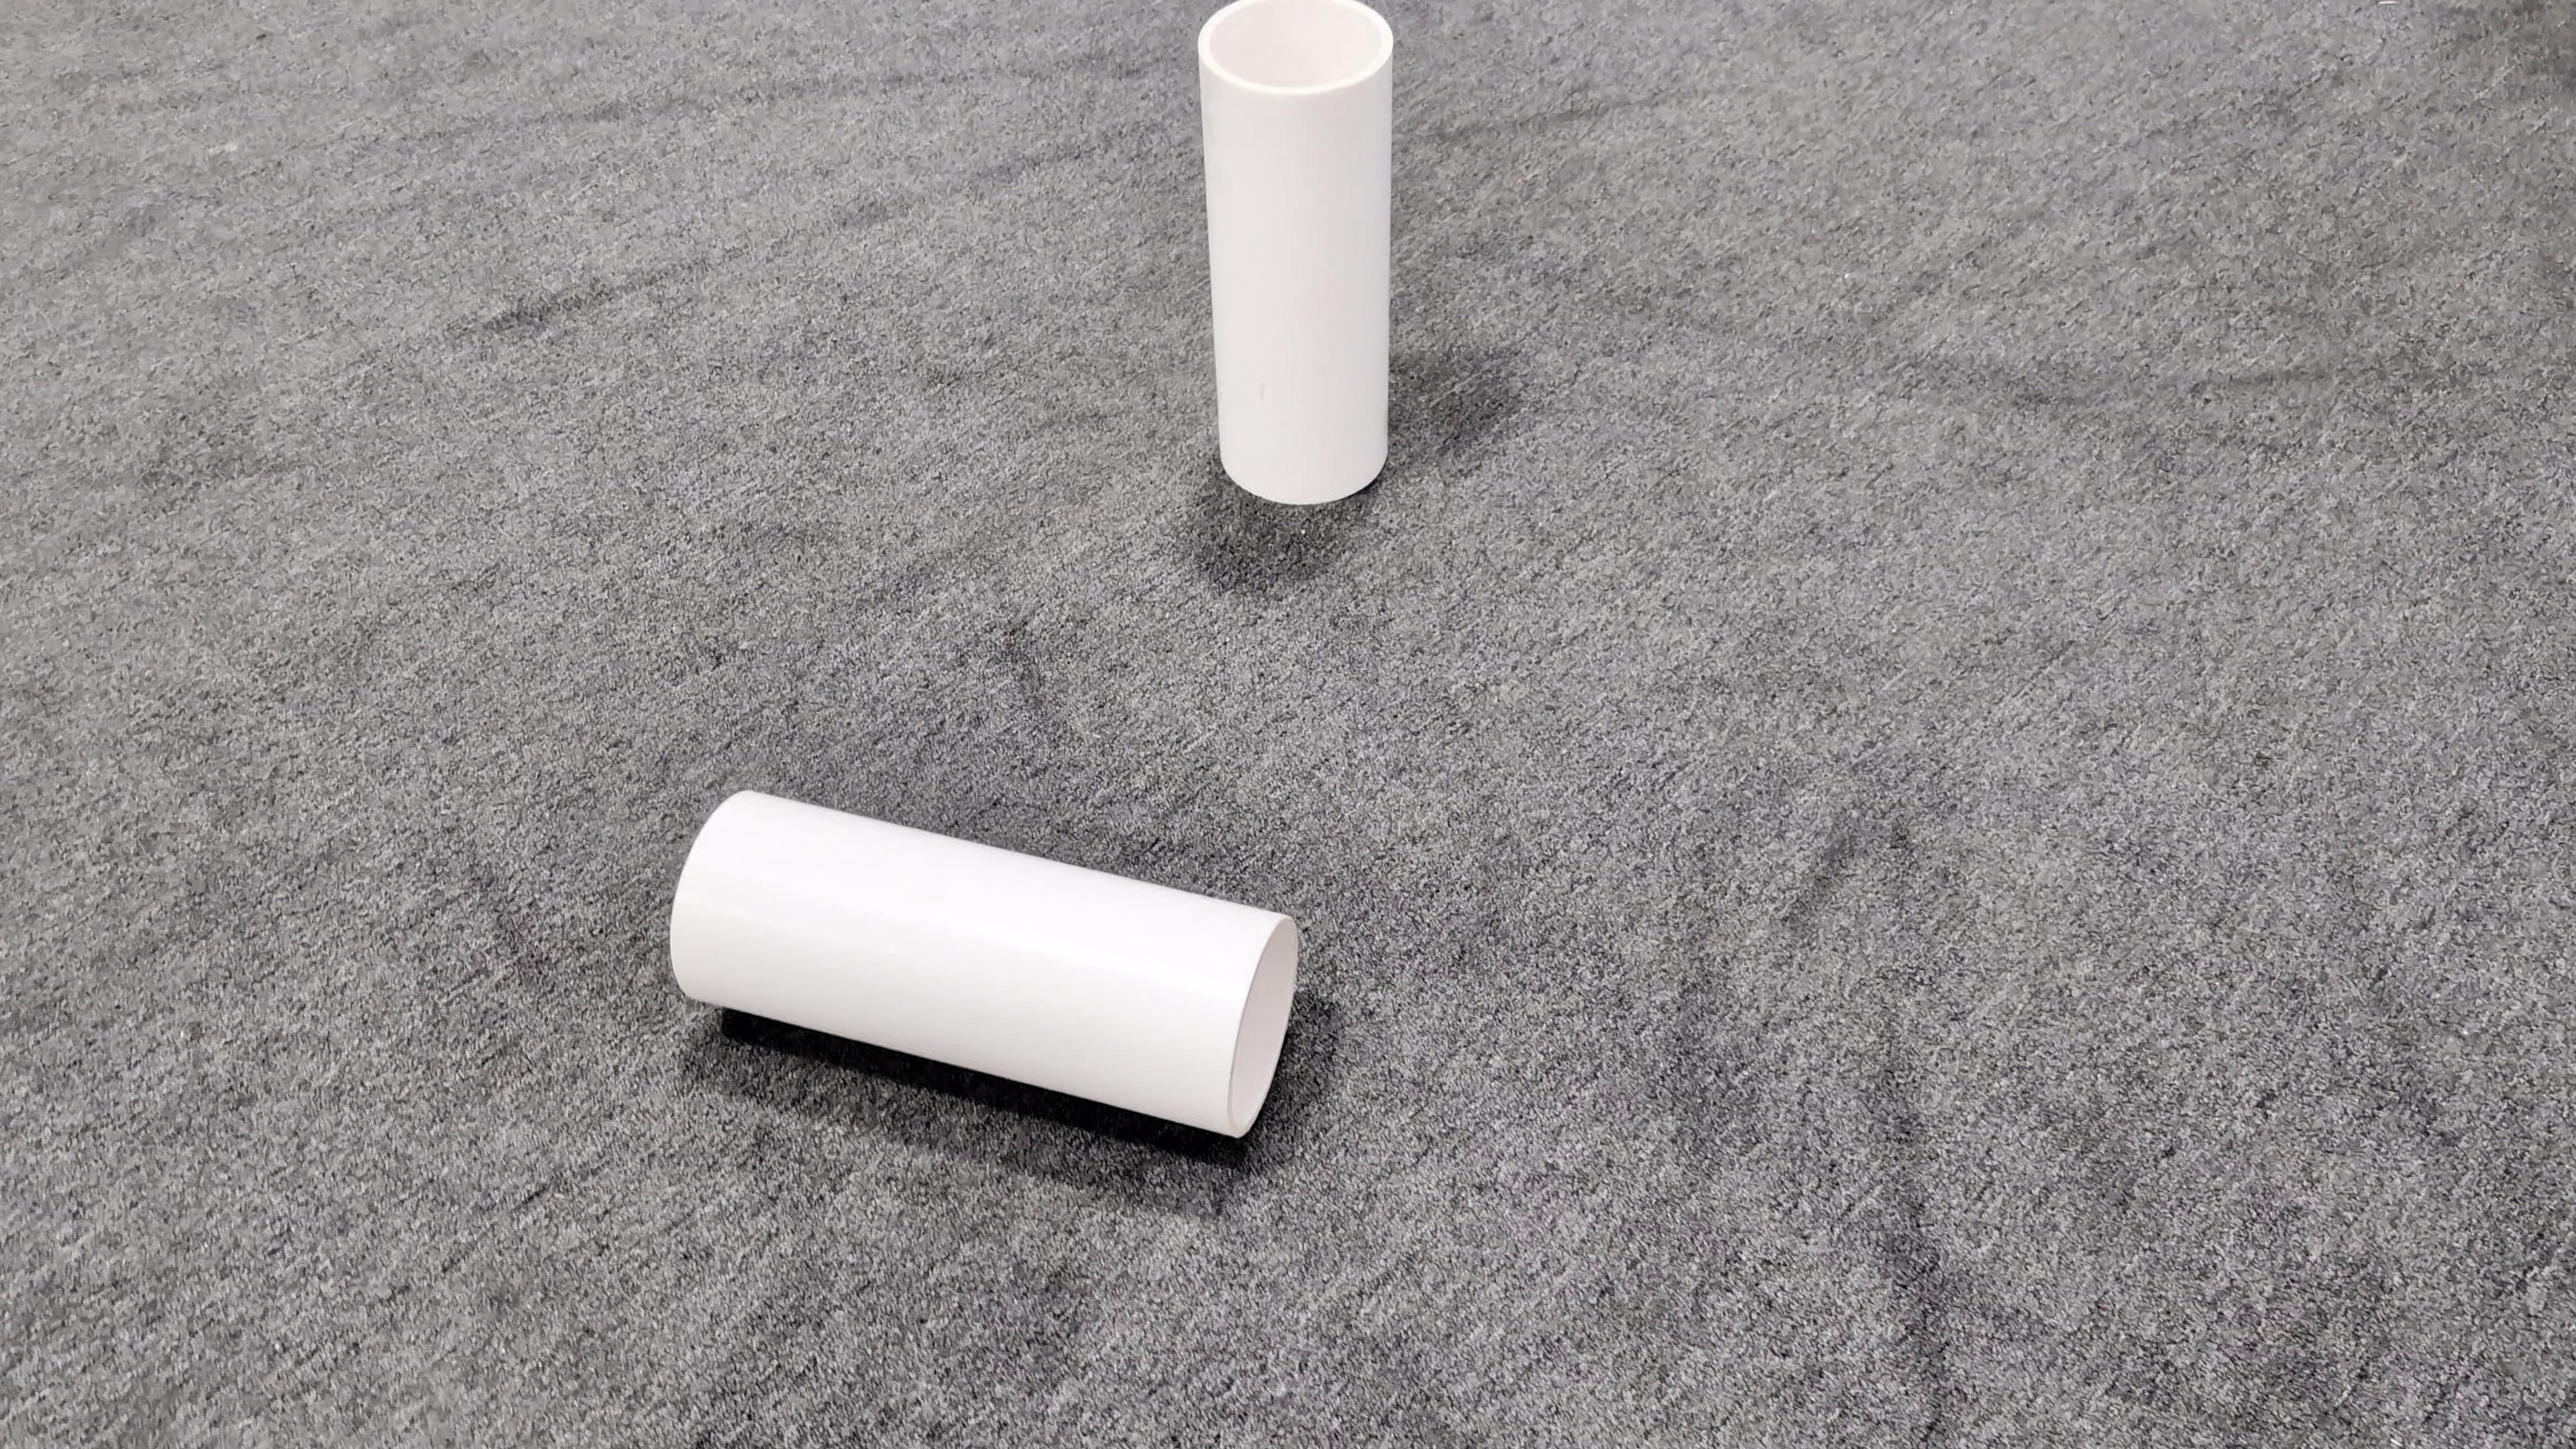coral: (667, 786, 1304, 1143), (1192, 4, 1401, 502)
